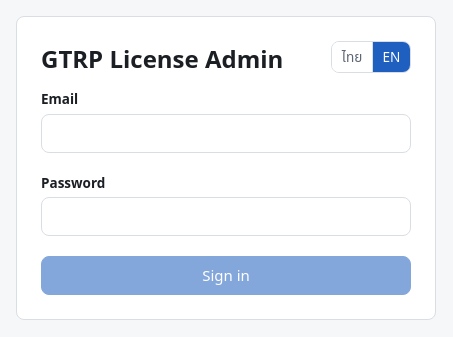
Test: language switcher › is available on the login page
The image size is (453, 337).
Click the button "ไทย": (352, 57) [332,42,372,72]
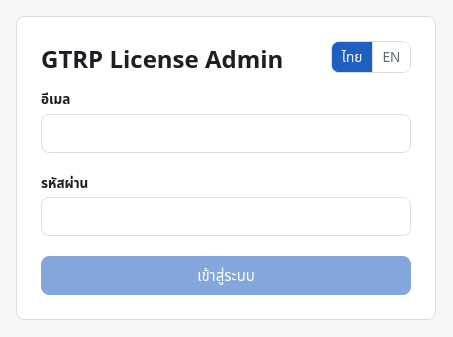
Expected: the password field labelled "รหัสผ่าน" is shown, [41,197,411,236]
Expected: the button "เข้าสู่ระบบ" is shown, [41,256,411,295]
